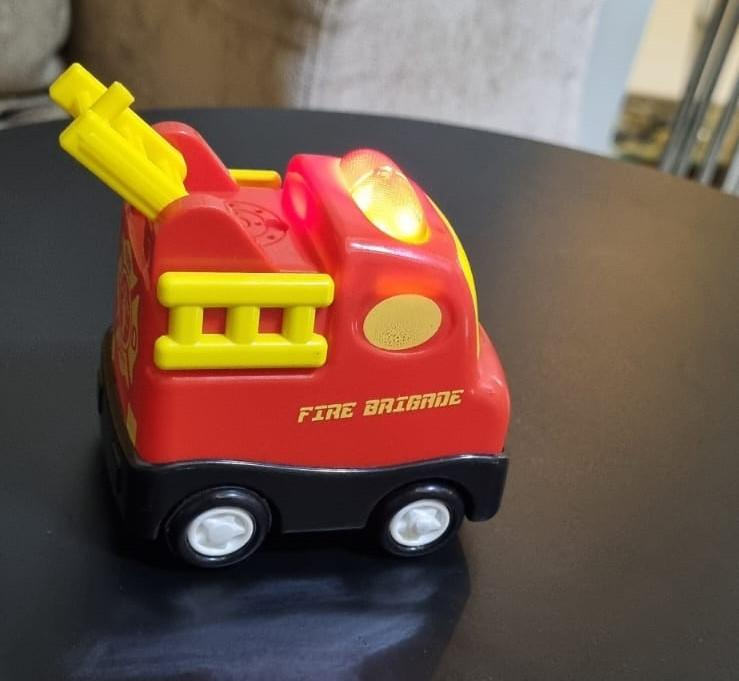firetruck_on: (47, 62, 511, 565)
